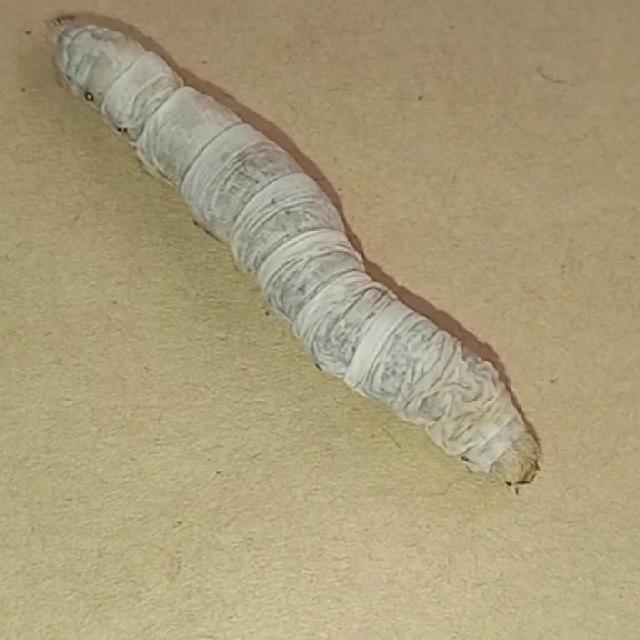Grasserie: (37, 5, 548, 497)
